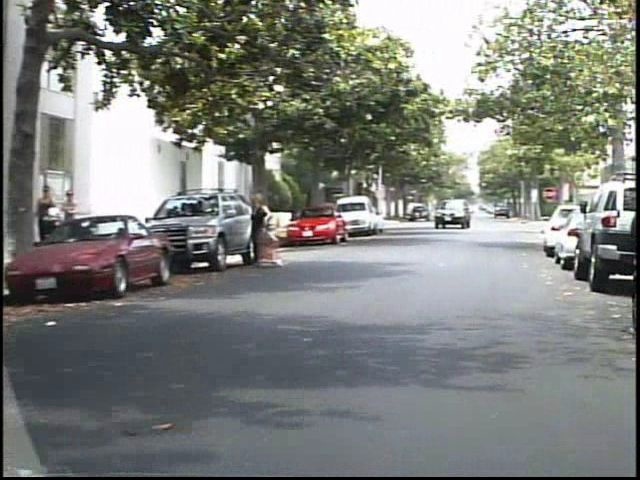person: (253, 190, 287, 275), (45, 183, 72, 255), (73, 185, 97, 250)
